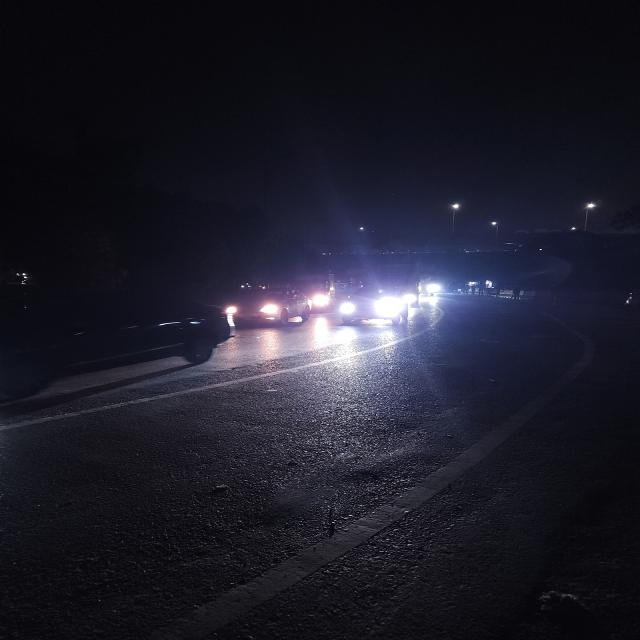car: (235, 286, 314, 330), (336, 290, 404, 328)
